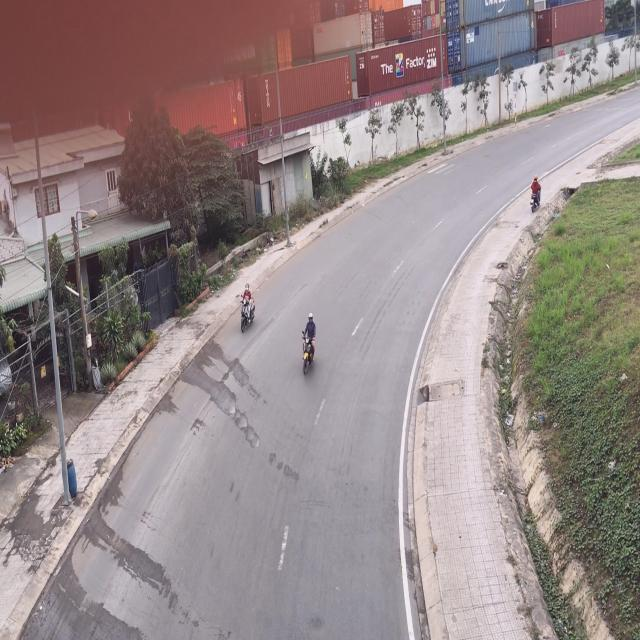motorbike: (301, 313, 318, 379), (237, 283, 255, 334), (529, 175, 542, 212)
